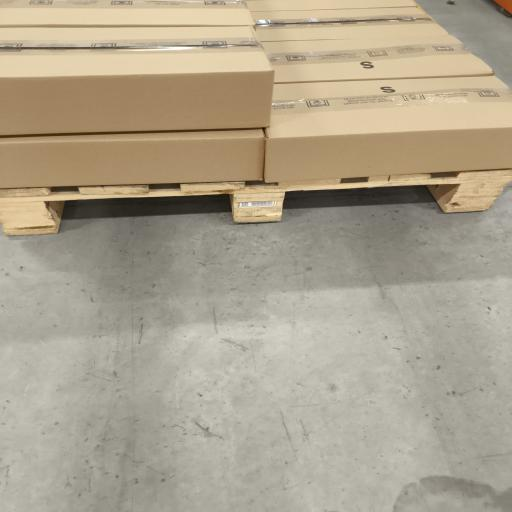pallet: (0, 170, 511, 235)
